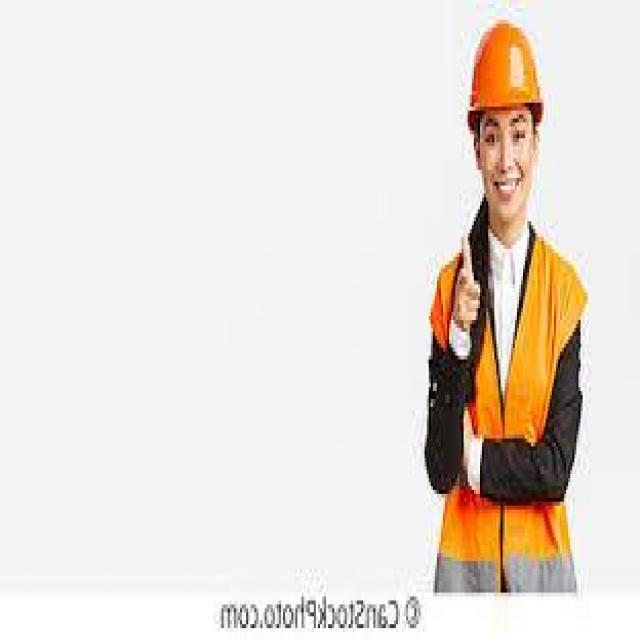Reflective-Jacket: (426, 225, 586, 585)
Safety-Helmet: (463, 16, 548, 122)
